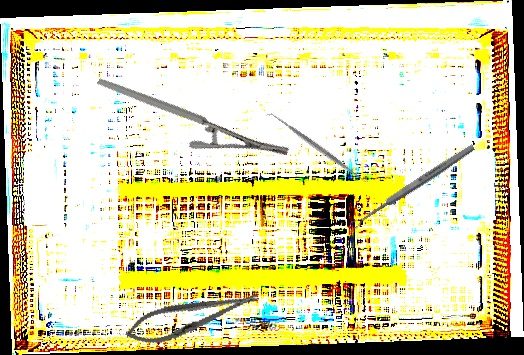Needle Holder: (96, 26, 291, 206), (121, 280, 264, 353)
Spatula Surgical: (264, 106, 371, 189)
Surgical Spoon: (349, 142, 477, 230)
